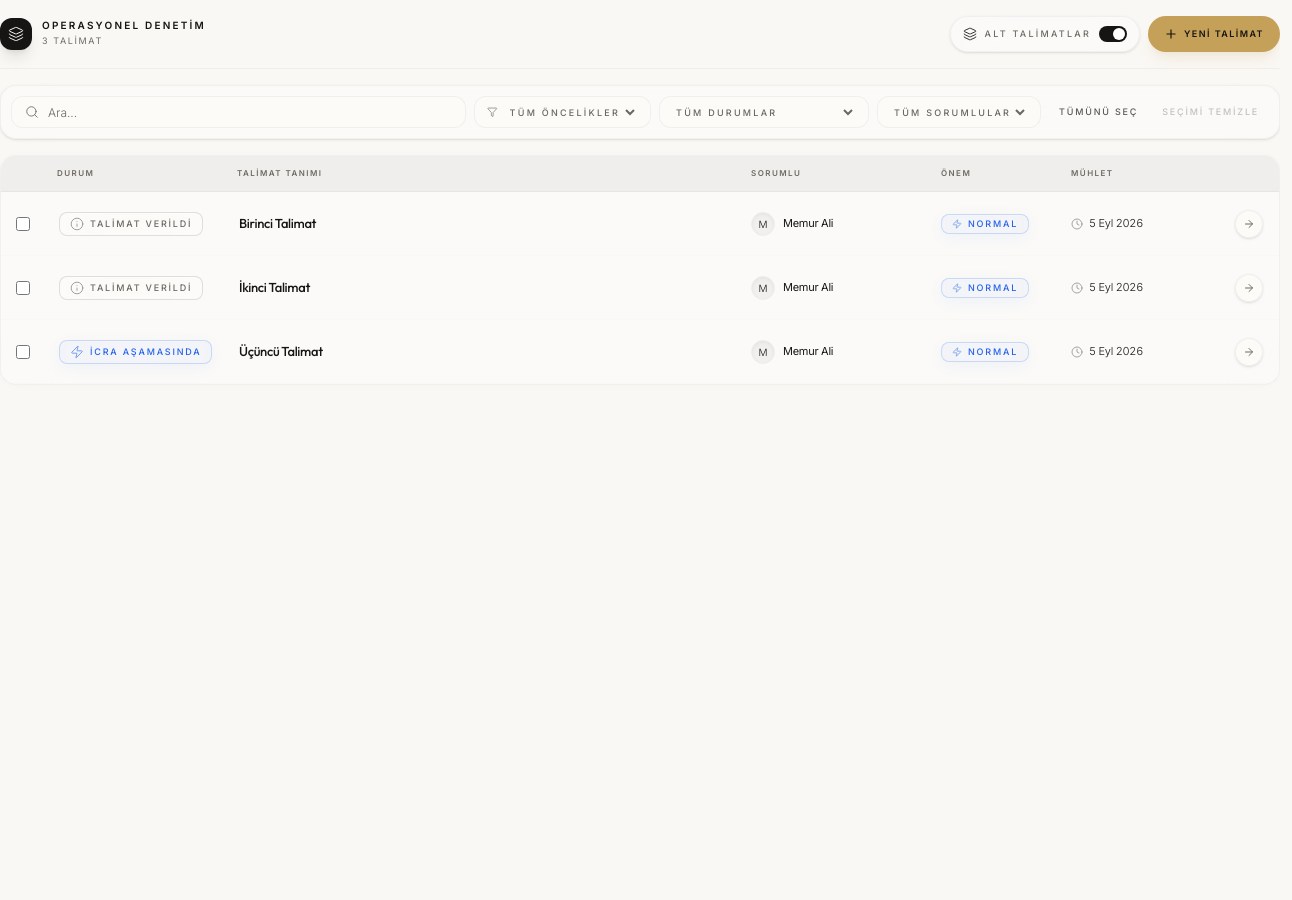
Scenario: TaskBoard — toplu seçim ve toplu işlem (P2-18) › "Tümünü Seç" yalnızca o an FİLTRELENMİŞ görünür listeyi seçer, filtre dışındaki görevleri DEĞİL
Note: ASSIGNED durumuna filtrele — inProgressC (IN_PROGRESS) görünümden çıkar.
Select "TALIMAT VERILDI" in the dropdown named "Durum filtresi" at (764, 112), box [672,106,856,118]
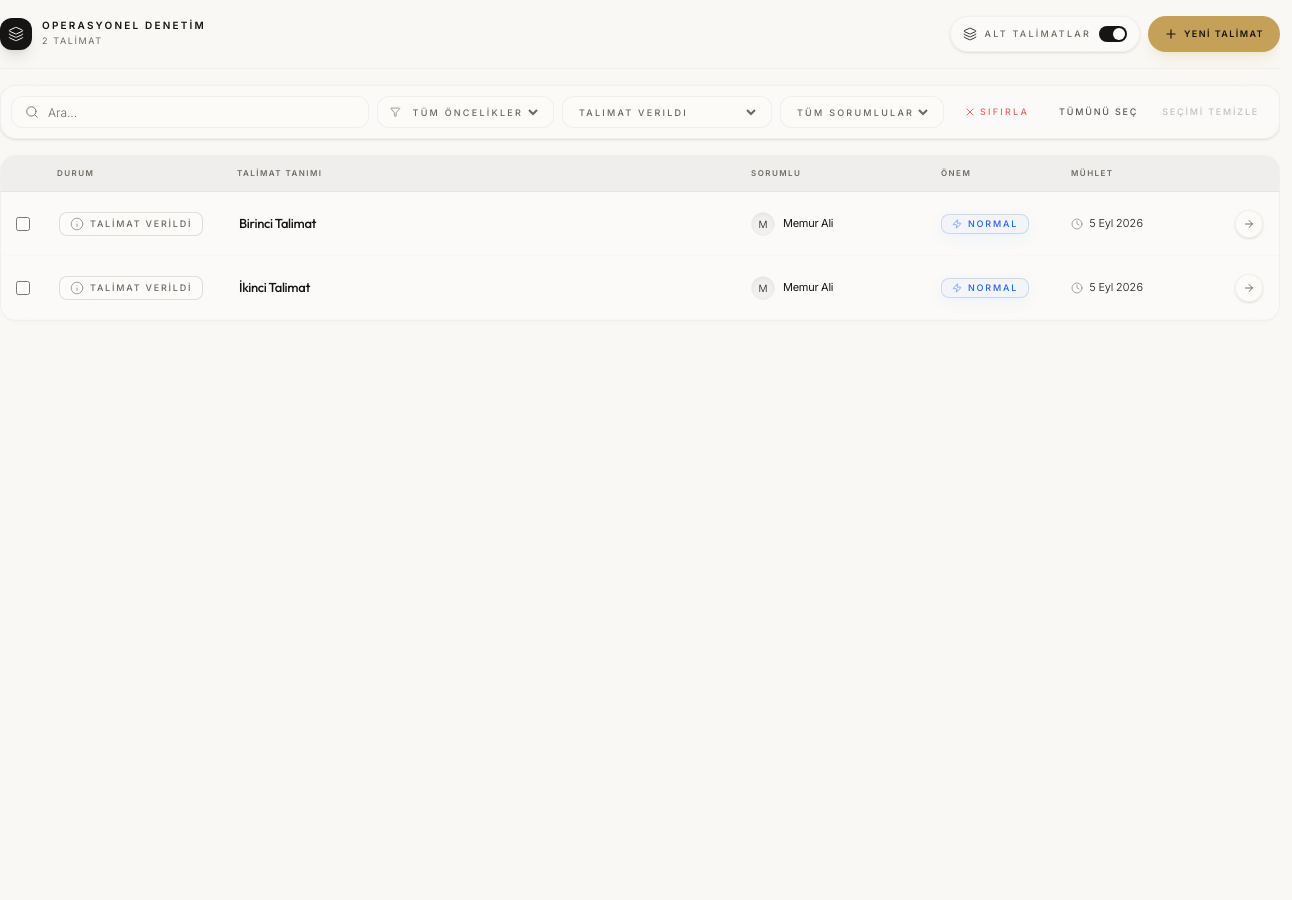
Click the button "Tümünü Seç" at (1099, 112), box [1049,96,1148,128]
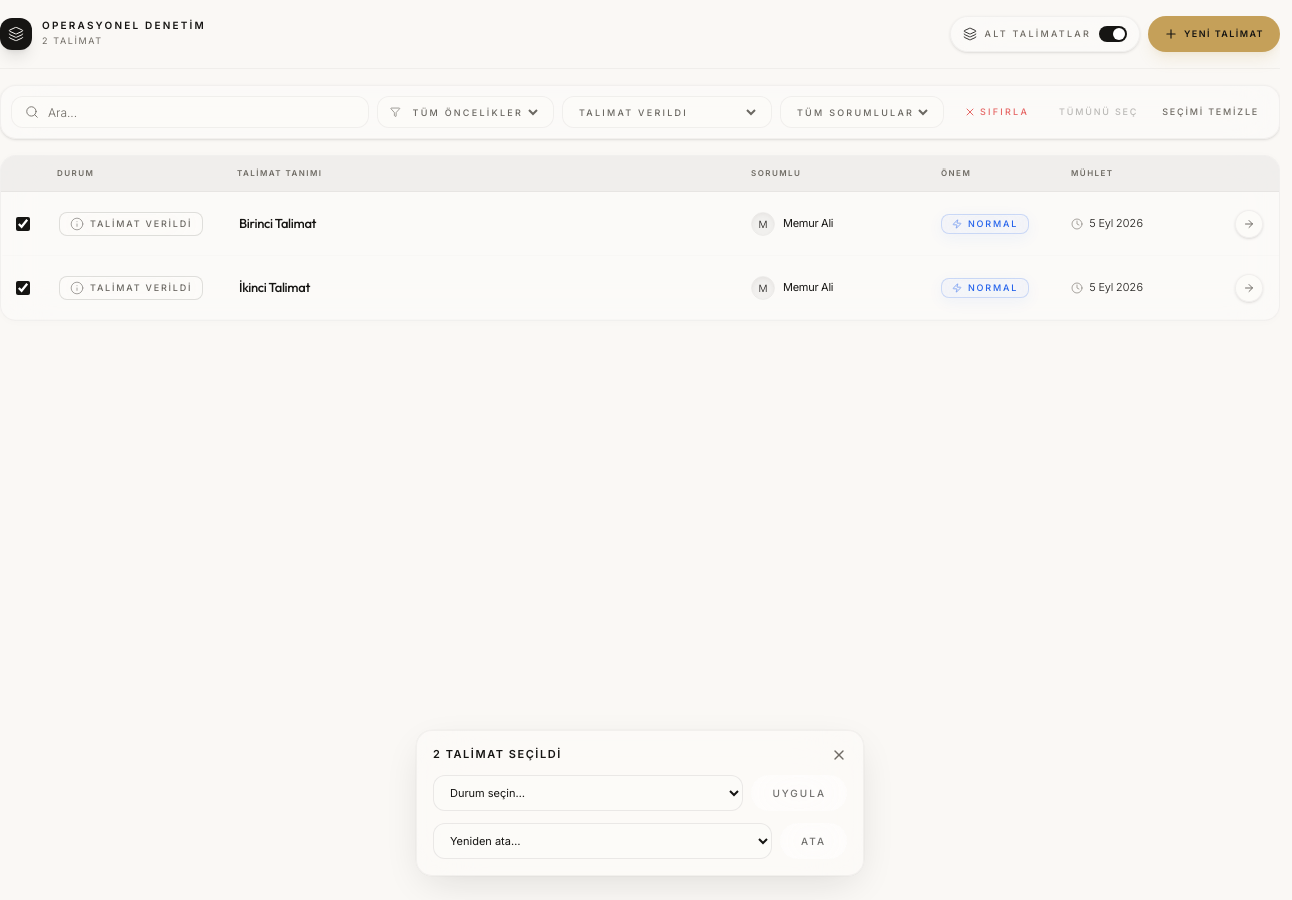
Result: the text "2 Talimat Seçildi" is shown at [433,747,562,763]
